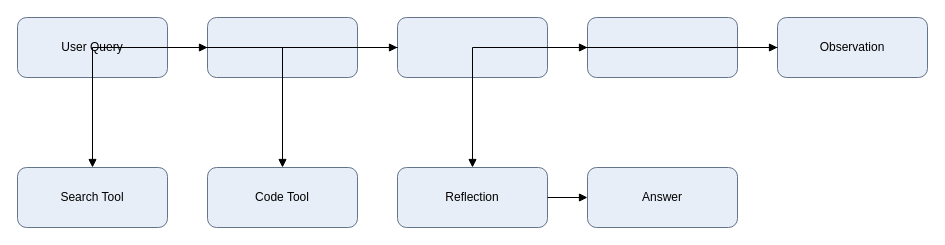
The diagram is 945 pixels wide and 245 high, and some of its shapes have lost their labels. The centre of each missing label's shape, as x and y in pixels:
"Environment" belongs at point 662,47.
"Planner" belongs at point 282,47.
"Tool Selection" belongs at point 472,47.
